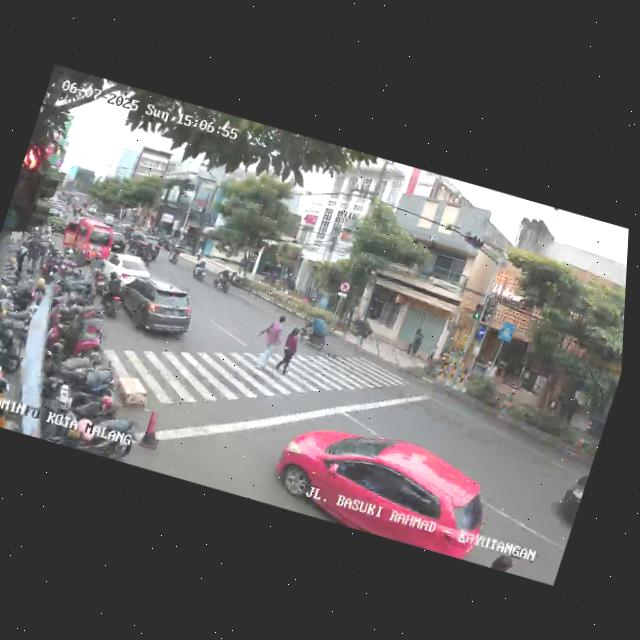car: (264, 411, 505, 562), (99, 268, 203, 347), (542, 457, 592, 537), (58, 212, 120, 266), (93, 246, 157, 295), (122, 229, 162, 265), (108, 227, 129, 253)
motorcycle: (93, 270, 131, 322), (80, 249, 115, 295), (296, 311, 333, 353), (210, 264, 236, 295), (189, 256, 211, 284), (166, 243, 184, 266)
person: (252, 311, 289, 370), (272, 320, 306, 378)
